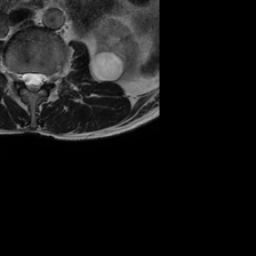CCS_normal: (29, 64, 36, 98)
LFS_normal: (45, 66, 53, 90)
LLS_normal: (36, 64, 45, 93)
RFS_normal: (14, 64, 22, 88)
RLS_normal: (22, 64, 29, 93)
